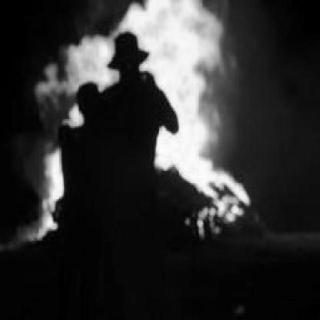Fire: (25, 6, 252, 234)
